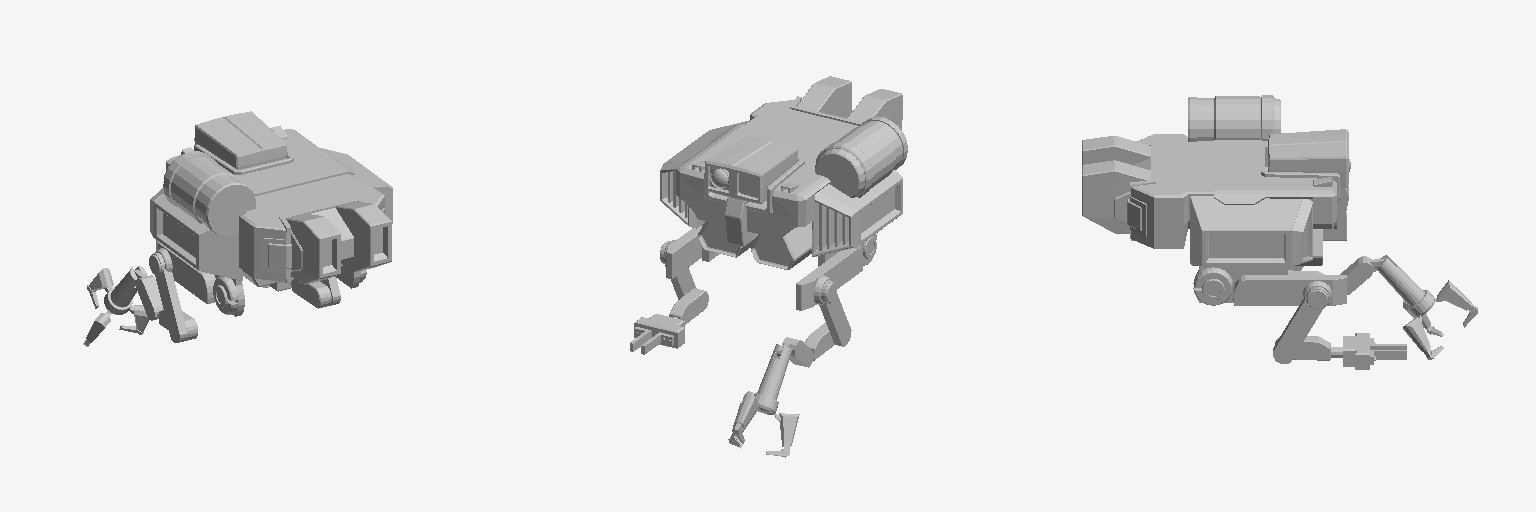
File: boss1.obj
3 renders of one model, left to right at view 1: azimuth 30°, elevation 25°; view 2: azimuth 150°, elevation 25°; view 3: azimuth 270°, elevation 25°, orthographic.
Parts seen in each view (by area): view 1: polySurface89_lambert1_0; view 2: polySurface89_lambert1_0; view 3: polySurface89_lambert1_0.
Part boxes in pixels (x1,y1,x2,y2): polySurface89_lambert1_0: (83, 111, 392, 346); polySurface89_lambert1_0: (630, 76, 907, 457); polySurface89_lambert1_0: (1082, 95, 1477, 369).
Size of the model in its own units: 2.12 by 2.57 by 3.72.